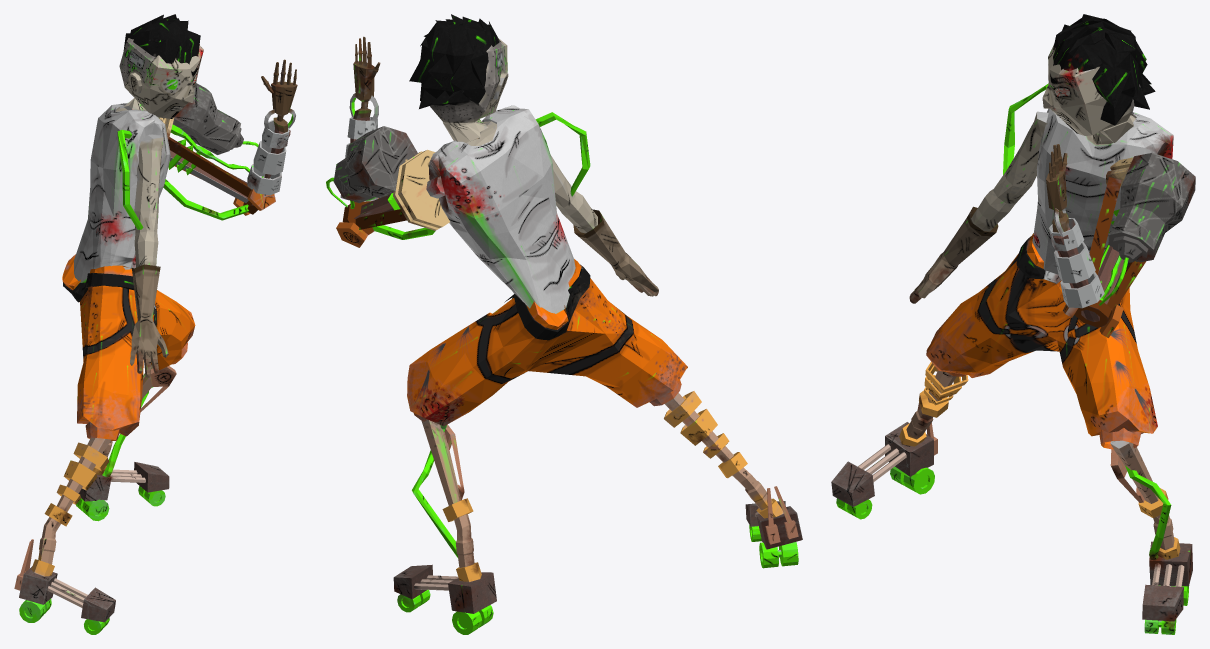
The model's file is CyborgFINALAnimation_000054.obj.
3 views of the same model, side by side, from view 1: azimuth 30°, elevation 25°; view 2: azimuth 150°, elevation 25°; view 3: azimuth 270°, elevation 25° (orthographic). The views are drawn at different scales.
Parts seen in each view (by area): view 1: CyborgMesh_Cube.002; view 2: CyborgMesh_Cube.002; view 3: CyborgMesh_Cube.002.
Boxes of the visible parts, left/top/right/bottom form: CyborgMesh_Cube.002: left=14, top=14, right=297, bottom=634; CyborgMesh_Cube.002: left=326, top=14, right=802, bottom=634; CyborgMesh_Cube.002: left=831, top=14, right=1195, bottom=634.
Size of the model in its own units: 6.04 by 8.65 by 4.7.
